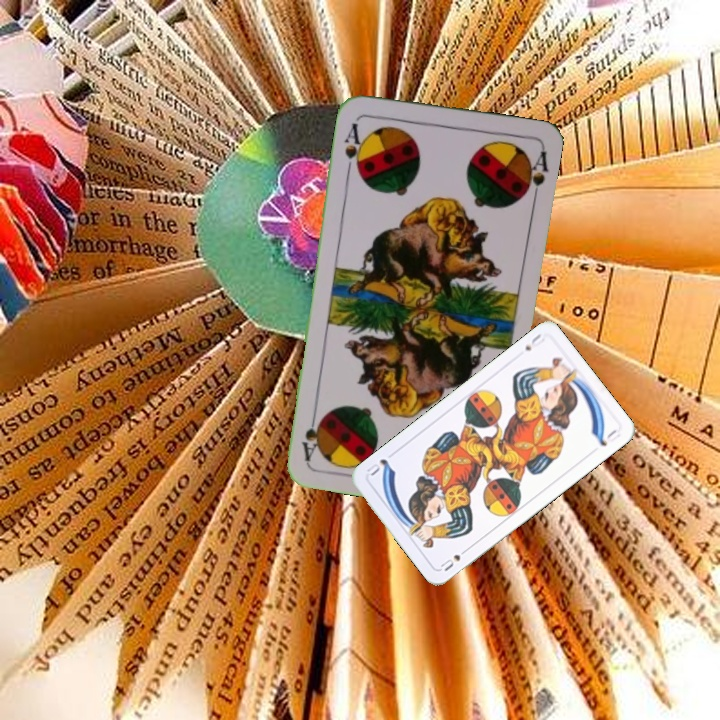SA: (340, 116, 368, 176)
SU: (436, 543, 472, 574), (521, 330, 548, 353)
